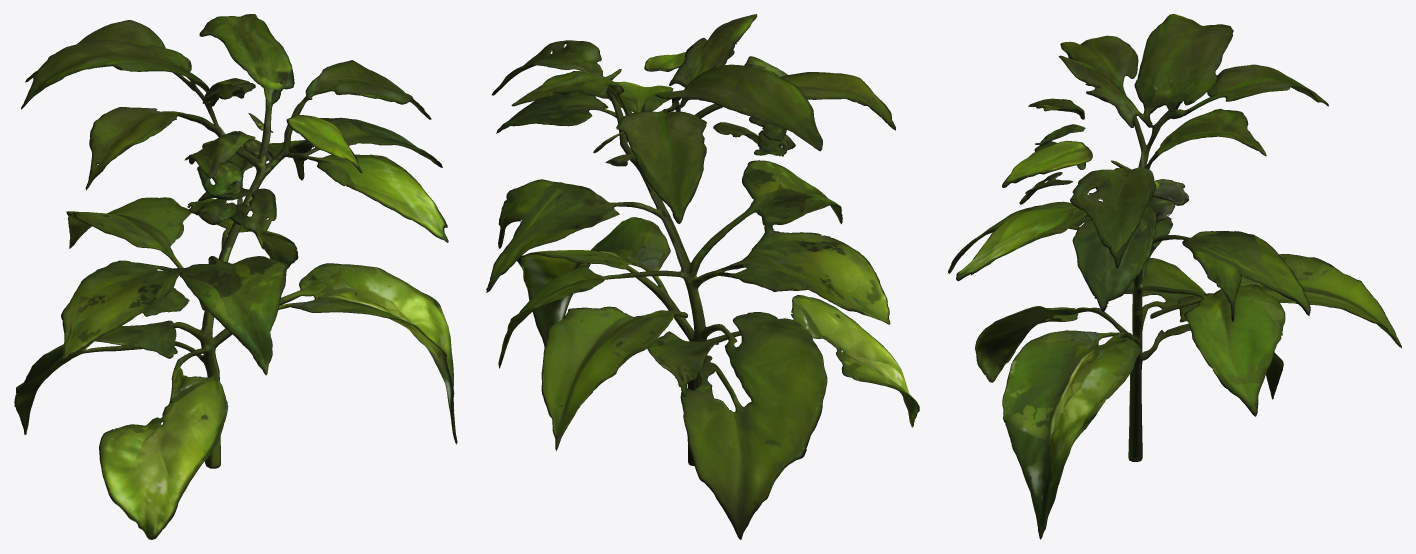
Rendered from shrub0030.gltf.
3 views of the same model, side by side, from view 1: azimuth 30°, elevation 25°; view 2: azimuth 150°, elevation 25°; view 3: azimuth 270°, elevation 25° (orthographic). The views are drawn at different scales.
Visible parts, largest first — view 1: Mesh_0; view 2: Mesh_0; view 3: Mesh_0.
Part boxes in pixels (box(x1,y1,x2,y2)): Mesh_0: box(14, 14, 457, 539); Mesh_0: box(486, 14, 919, 539); Mesh_0: box(948, 14, 1401, 539).
Size of the model in its own units: 1.86 by 1.93 by 2.01.
1 material, 1 textured.
